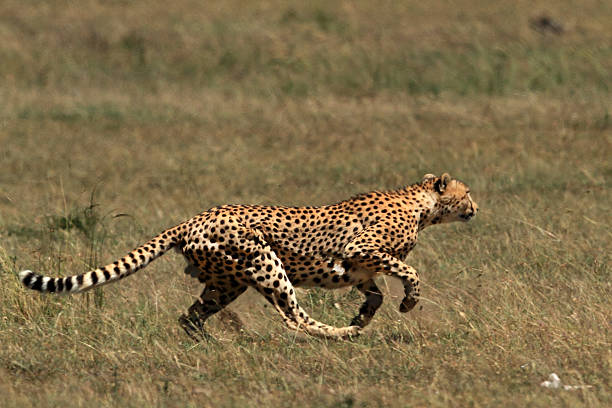cheetah: (418, 166, 480, 224)
